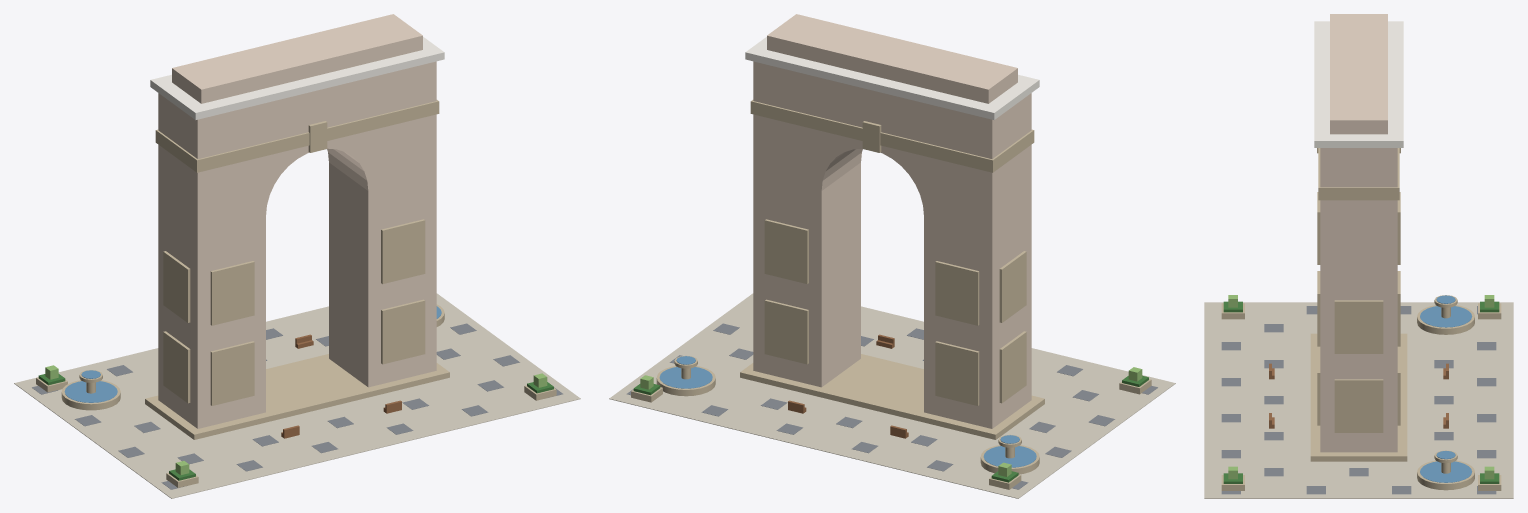
The model's file is grandarch.glb.
3 renders of one model, left to right at view 1: azimuth 30°, elevation 25°; view 2: azimuth 150°, elevation 25°; view 3: azimuth 270°, elevation 25°, orthographic.
Parts seen in each view (by area): view 1: plaza, pier (×2), arch_head, carved_panel (×6), attic, arch_base, cornice, frieze, fountain_water, fountain_basin; view 2: plaza, pier (×2), arch_head, carved_panel (×6), attic, arch_base, cornice, frieze, fountain_water (×2), fountain_basin; view 3: plaza, pier, arch_head, attic, carved_panel (×2), cornice, arch_base, fountain_water (×2), frieze, fountain_basin (×2).
Part boxes in pixels (x1,y1,x2,y2): plaza: (14, 293, 580, 498); pier (×2): (158, 162, 436, 428); arch_head: (158, 61, 436, 232); carved_panel (×6): (163, 219, 425, 405); attic: (172, 14, 422, 103); arch_base: (145, 354, 449, 439); cornice: (150, 37, 444, 119); frieze: (155, 100, 439, 172); fountain_water: (64, 381, 117, 402); fountain_basin: (61, 380, 120, 410); plaza: (609, 293, 1175, 498); pier (×2): (753, 162, 1031, 428); arch_head: (753, 61, 1031, 232); carved_panel (×6): (764, 219, 1026, 405); attic: (767, 14, 1017, 103); arch_base: (740, 354, 1044, 439); cornice: (745, 37, 1039, 119); frieze: (750, 100, 1034, 172); fountain_water (×2): (659, 367, 1036, 467); fountain_basin: (656, 366, 715, 396); plaza: (1204, 302, 1513, 498); pier: (1320, 259, 1397, 452); arch_head: (1320, 148, 1397, 259); attic: (1330, 14, 1387, 134); carved_panel (×2): (1334, 300, 1383, 432); cornice: (1314, 21, 1403, 147); arch_base: (1310, 333, 1407, 461); fountain_water (×2): (1420, 306, 1471, 482); frieze: (1318, 148, 1399, 200); fountain_basin (×2): (1417, 305, 1474, 490).
Size of the model in its own units: 48 by 38.06 by 32.
